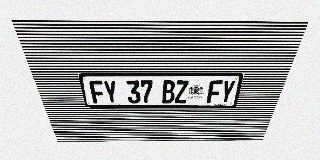3: (126, 80, 140, 103)
7: (140, 80, 153, 103)
B: (162, 80, 175, 103)
F: (89, 80, 106, 103), (206, 80, 223, 103)
Y: (219, 80, 236, 103), (102, 80, 118, 103)
Z: (174, 80, 189, 103)
